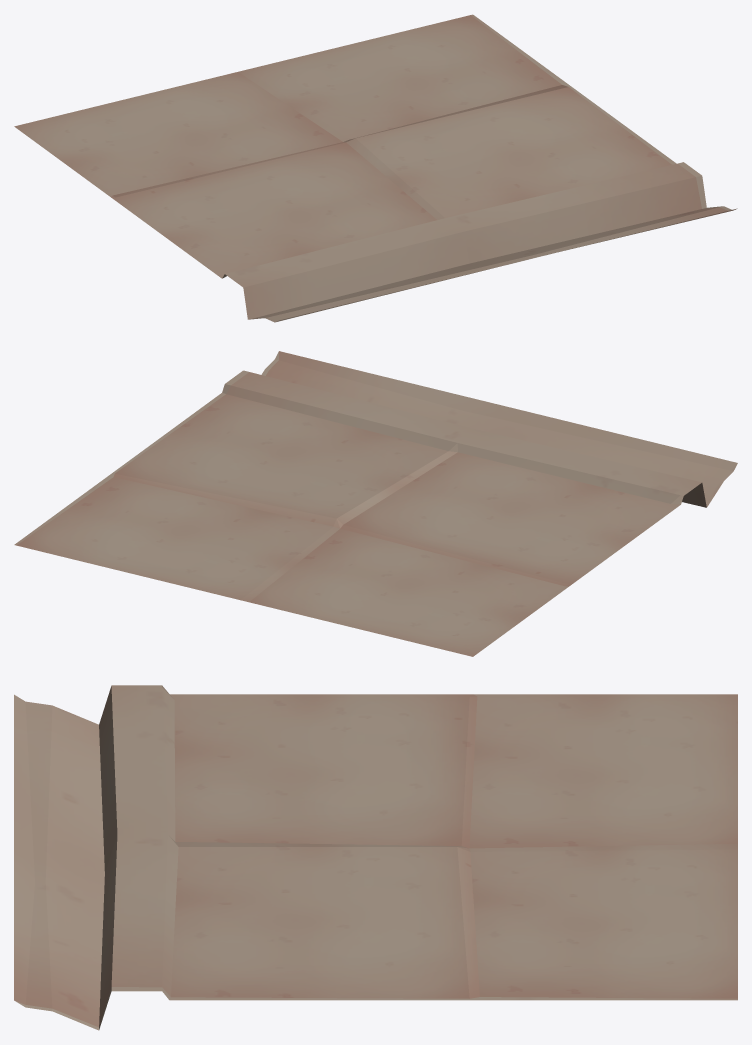
Rendered from SM_Env_Sidewalk_Straight_01_edit.fbx.
3 views of the same model, one above another, from view 1: azimuth 30°, elevation 25°; view 2: azimuth 150°, elevation 25°; view 3: azimuth 270°, elevation 25° (orthographic). The views are drawn at different scales.
Visible parts, largest first — view 1: SM_Env_Sidewalk_Straight_01; view 2: SM_Env_Sidewalk_Straight_01; view 3: SM_Env_Sidewalk_Straight_01.
Boxes of the visible parts, x1=… form: SM_Env_Sidewalk_Straight_01: x1=14, y1=14, x2=737, y2=322; SM_Env_Sidewalk_Straight_01: x1=14, y1=351, x2=737, y2=656; SM_Env_Sidewalk_Straight_01: x1=14, y1=685, x2=737, y2=1030.
Bounding box in the file's own units: 5 × 0.3 × 5.
